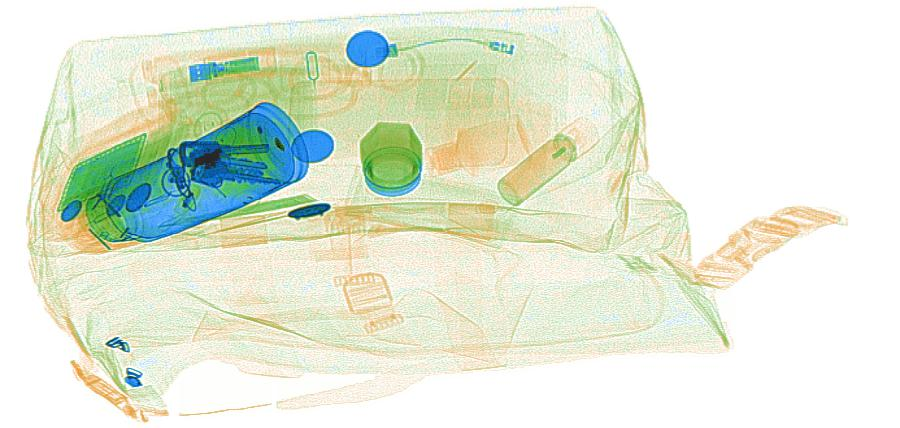USBFlashDisk: (187, 54, 261, 83)
pressure: (497, 113, 602, 206)
